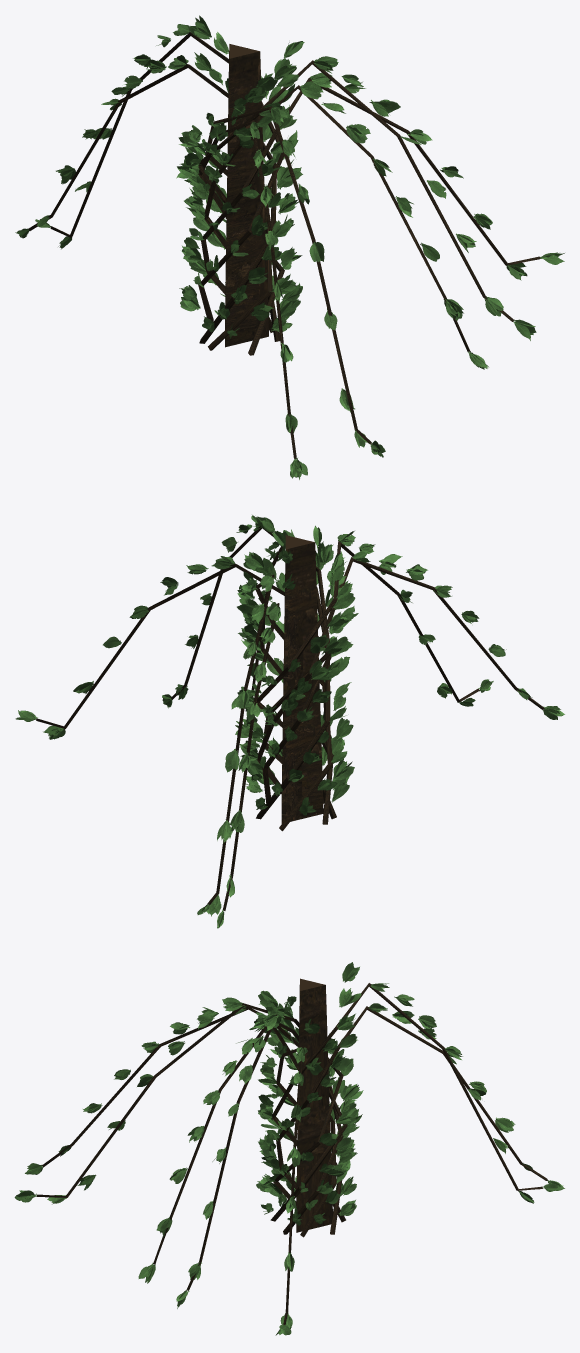
The model's file is liana_cluster_v01_LOD1.fbx.
The picture shows the model from 3 angles, top to bottom: view 1: azimuth 30°, elevation 25°; view 2: azimuth 150°, elevation 25°; view 3: azimuth 270°, elevation 25°; orthographic projection. The views are drawn at different scales.
Visible parts, largest first — view 1: liana_cluster_v01_LOD1; view 2: liana_cluster_v01_LOD1; view 3: liana_cluster_v01_LOD1.
Part boxes in pixels (bbox=[...]): liana_cluster_v01_LOD1: bbox=[15, 15, 564, 479]; liana_cluster_v01_LOD1: bbox=[15, 515, 564, 928]; liana_cluster_v01_LOD1: bbox=[14, 962, 564, 1335].
Size of the model in its own units: 150 by 104 by 201.
2 materials, 2 textured.
